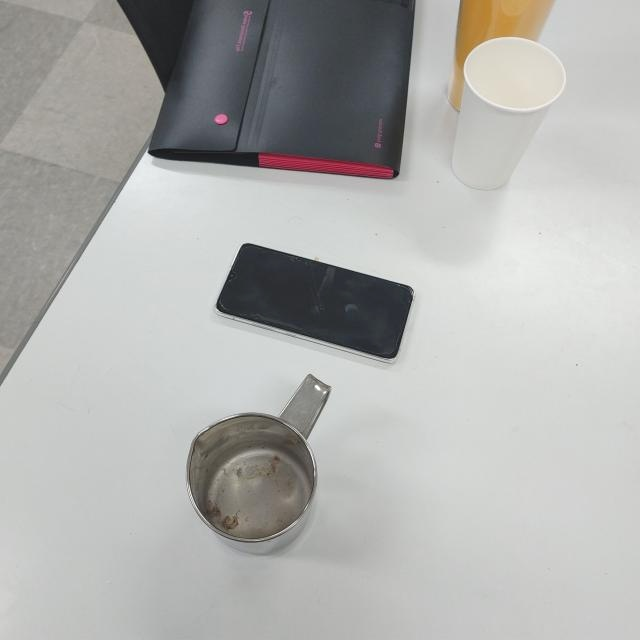cup: (185, 372, 333, 552)
phone: (215, 242, 413, 363)
